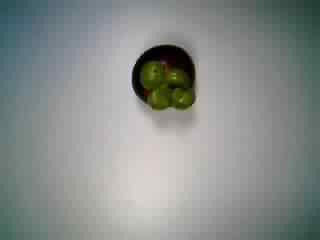mangosteen: (121, 41, 204, 116)
